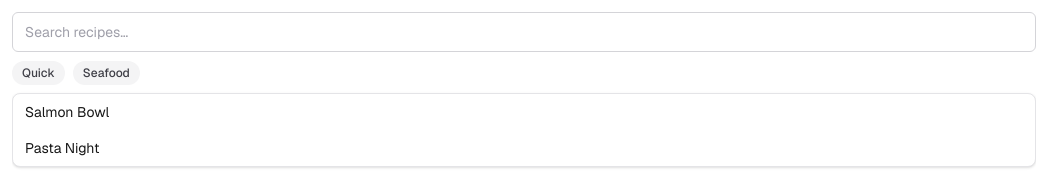
RecipePicker › filters by tag chips without any search text
What coordinates should you click on to do the following:
click the button with test id "recipe-picker-tag-t2"
I would click on:
 (106, 73)
Its box is top-left (73, 61), bottom-right (140, 85).
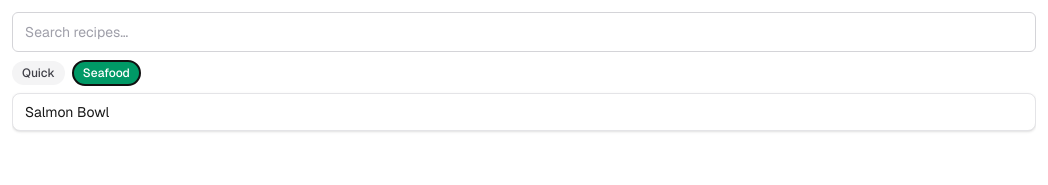
Expected: the button with test id "recipe-picker-result" reads "Salmon Bowl", top-left (13, 94), bottom-right (1035, 130)
Now the number of buttons with test id "recipe-picker-result" is 1, box top-left (13, 94), bottom-right (1035, 130)
